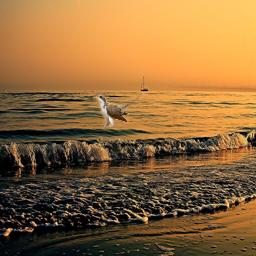Cuckoo: (93, 92, 141, 127)
